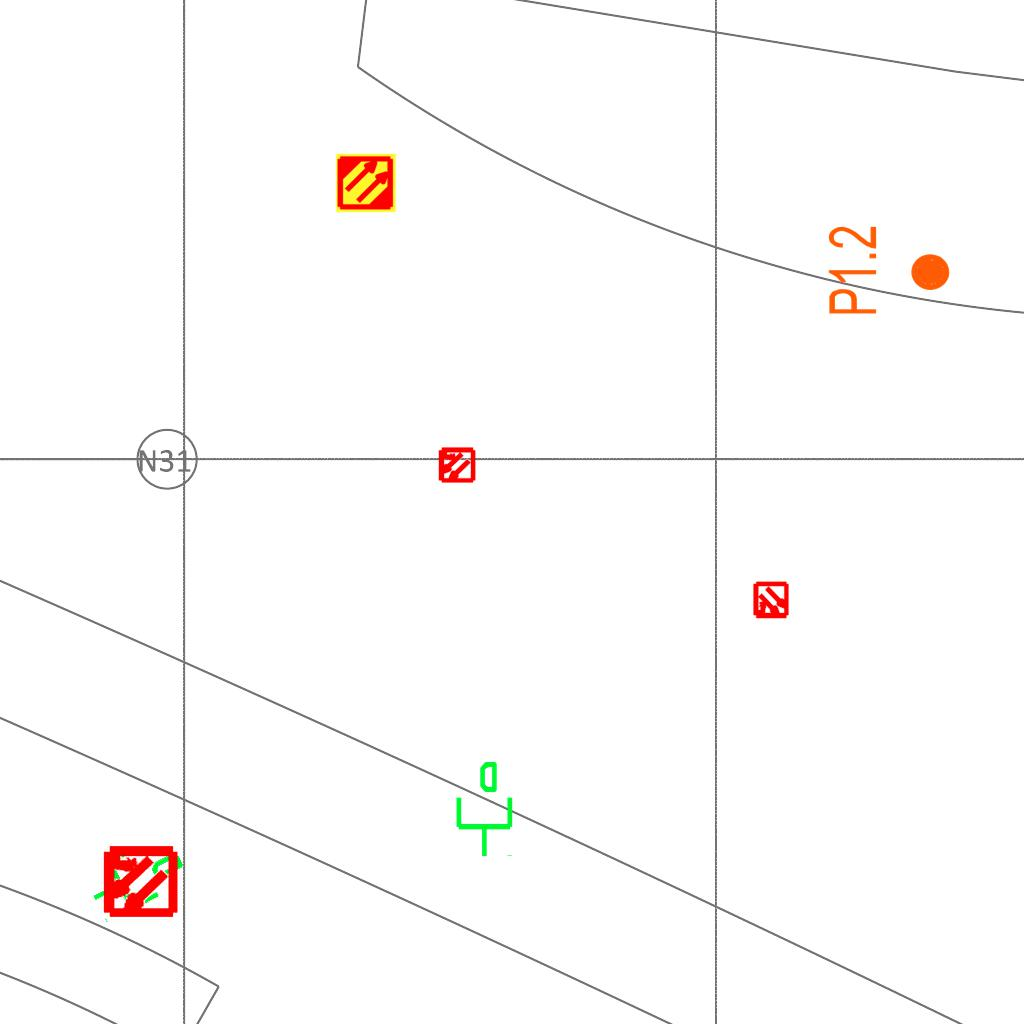ASR_Ansaugrauchmelder: (335, 152, 397, 214)
Datenanschluss_einfach: (75, 821, 196, 929), (448, 759, 517, 859)
Downlight_LED_Einbauleuchten_Flur: (825, 224, 953, 317)
OT_Multisensormelder_(Kombination_RMO_WMD): (82, 825, 195, 938), (428, 437, 484, 493), (743, 573, 799, 629)
